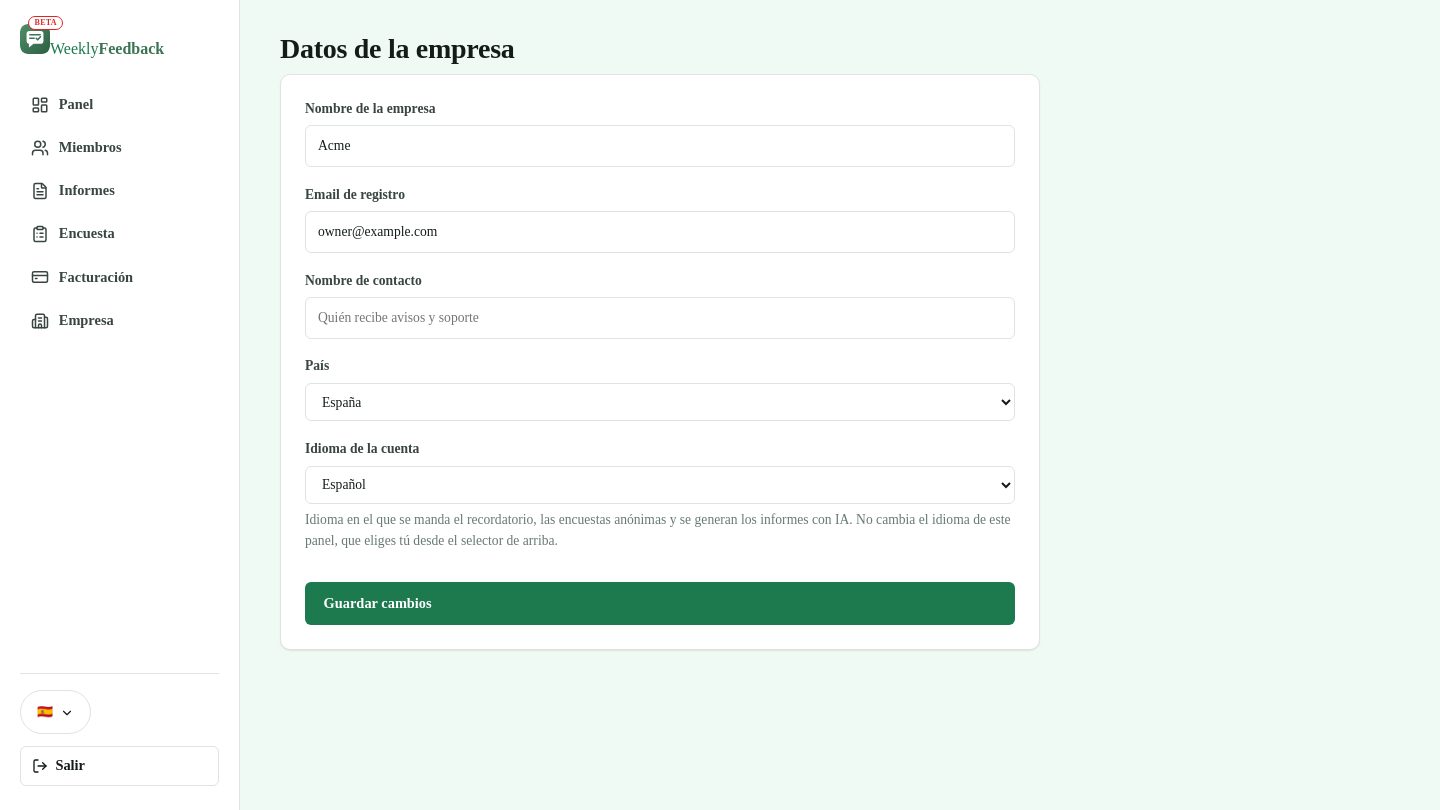
Scenario: SettingsPage › fallo al guardar: muestra el mensaje real del backend, no "guardado"
Expected: the field showing "Acme" is shown, [305,125,1015,167]
Click the button "Guardar cambios". click: click(378, 603)
box: [305,582,1015,625]
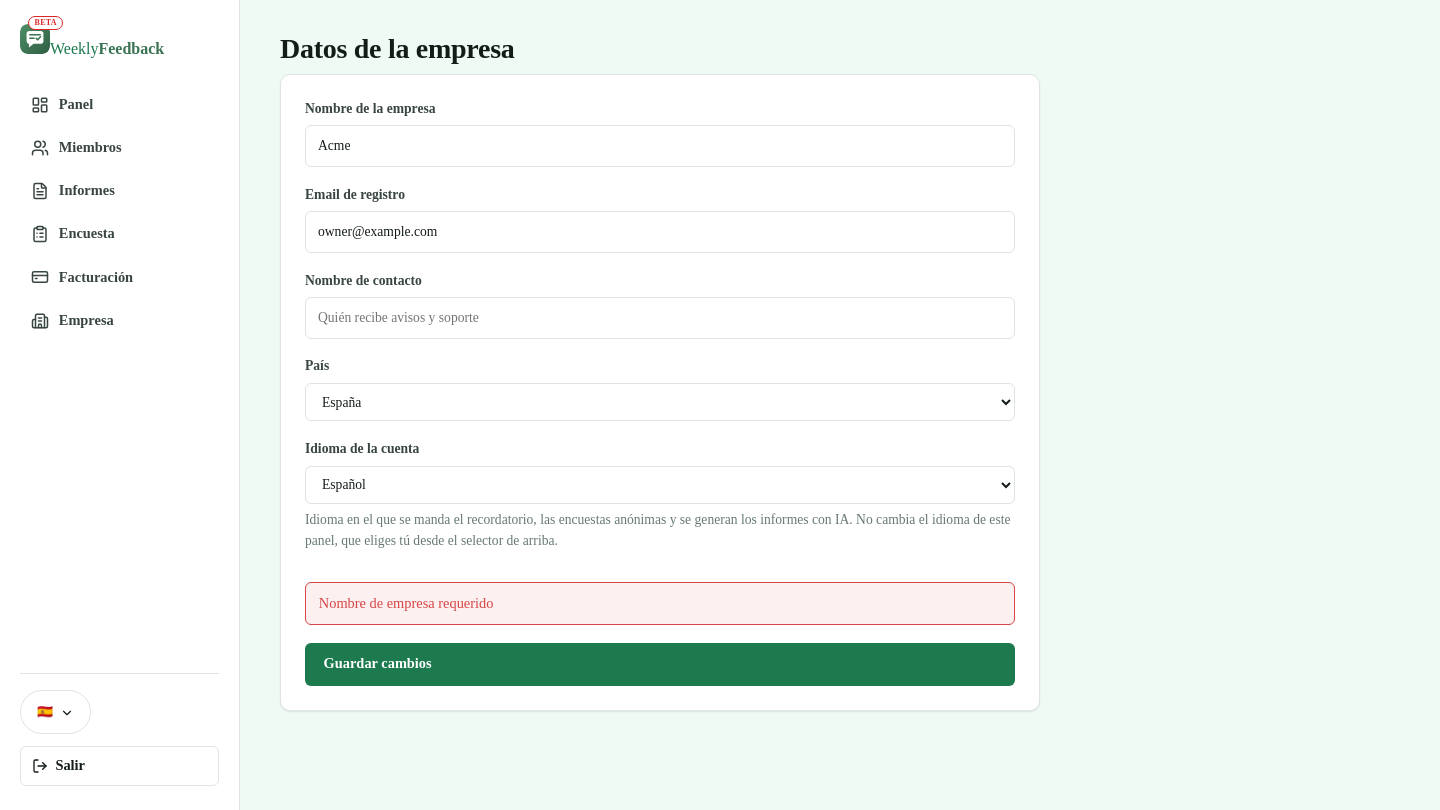
Now the message reads "Nombre de empresa requerido", box [319,595,493,611]
